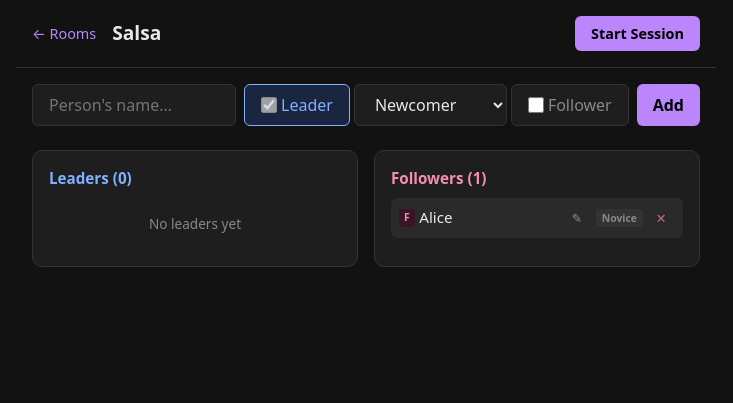
Room page › migrates people stored with a single role field
Expected: the heading "Followers (1)" is shown, [391,168,486,188]
Type "Bob" into the field with placeholder "Person's name…" at {"x": 134, "y": 105}, box [32,84,236,126]
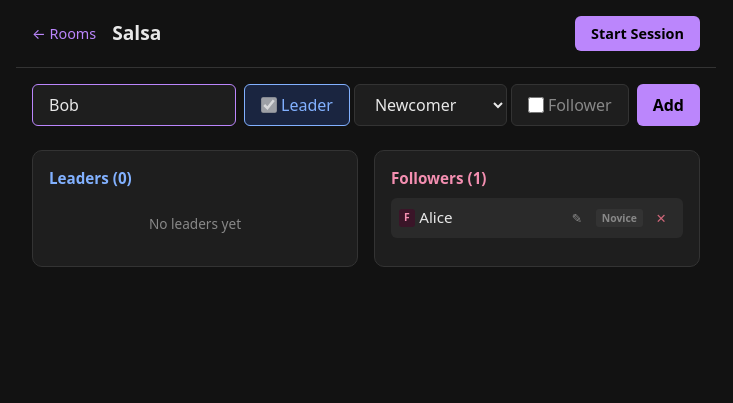
Click the button "Add" at {"x": 668, "y": 105}, box [637,84,700,126]
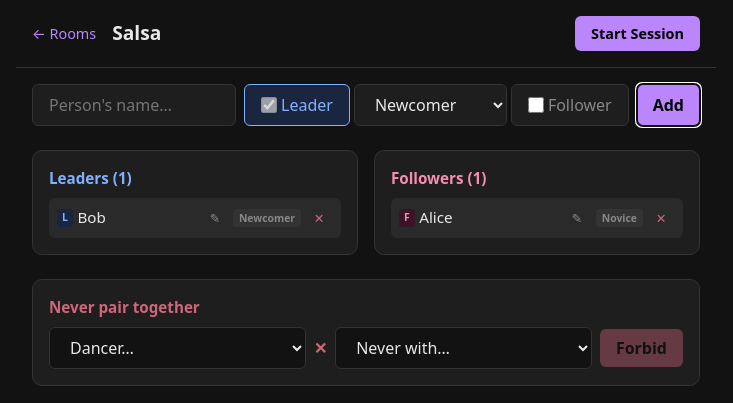
Expected: the heading "Followers (1)" is shown, [391,168,486,188]
Expected: the heading "Leaders (1)" is shown, [49,168,132,188]
